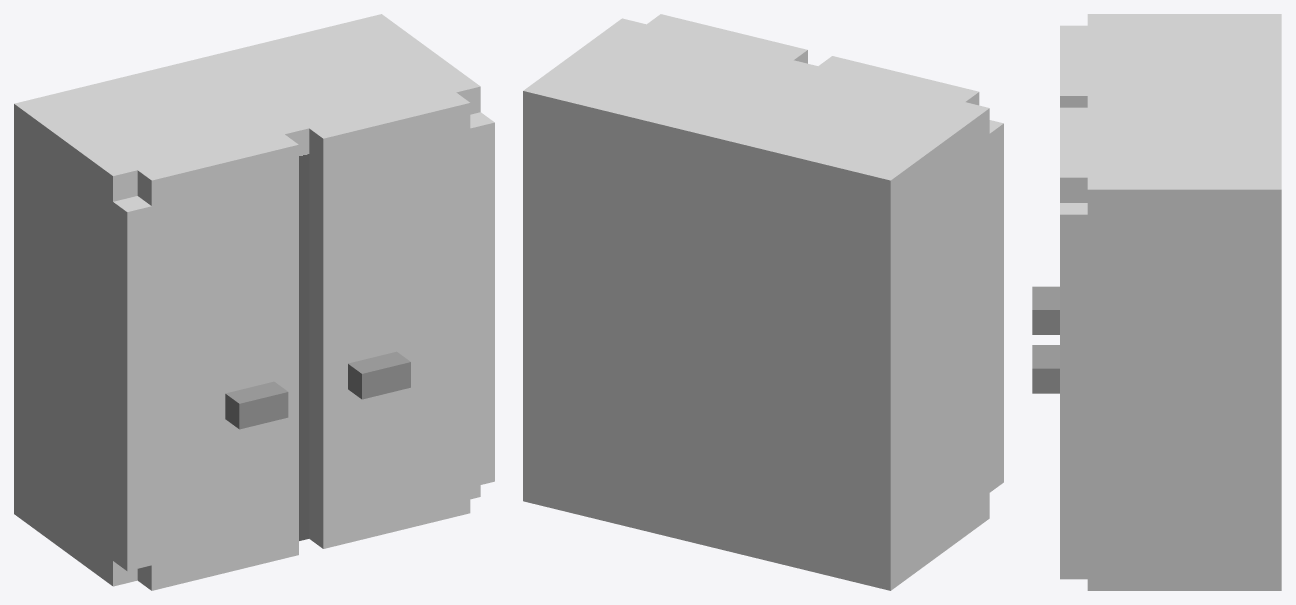
The model's file is Szafa.dae.
3 renders of one model, left to right at view 1: azimuth 30°, elevation 25°; view 2: azimuth 150°, elevation 25°; view 3: azimuth 270°, elevation 25°, orthographic. The views are drawn at different scales.
Parts seen in each view (by area): view 1: Szafa; view 2: Szafa; view 3: Szafa.
Boxes of the visible parts, x1,y1,x2,y2 form: Szafa: (14, 14, 494, 590); Szafa: (523, 14, 1003, 590); Szafa: (1032, 14, 1281, 590).
Bounding box in the file's own units: 15 × 16 × 9.
1 material, 1 textured.
